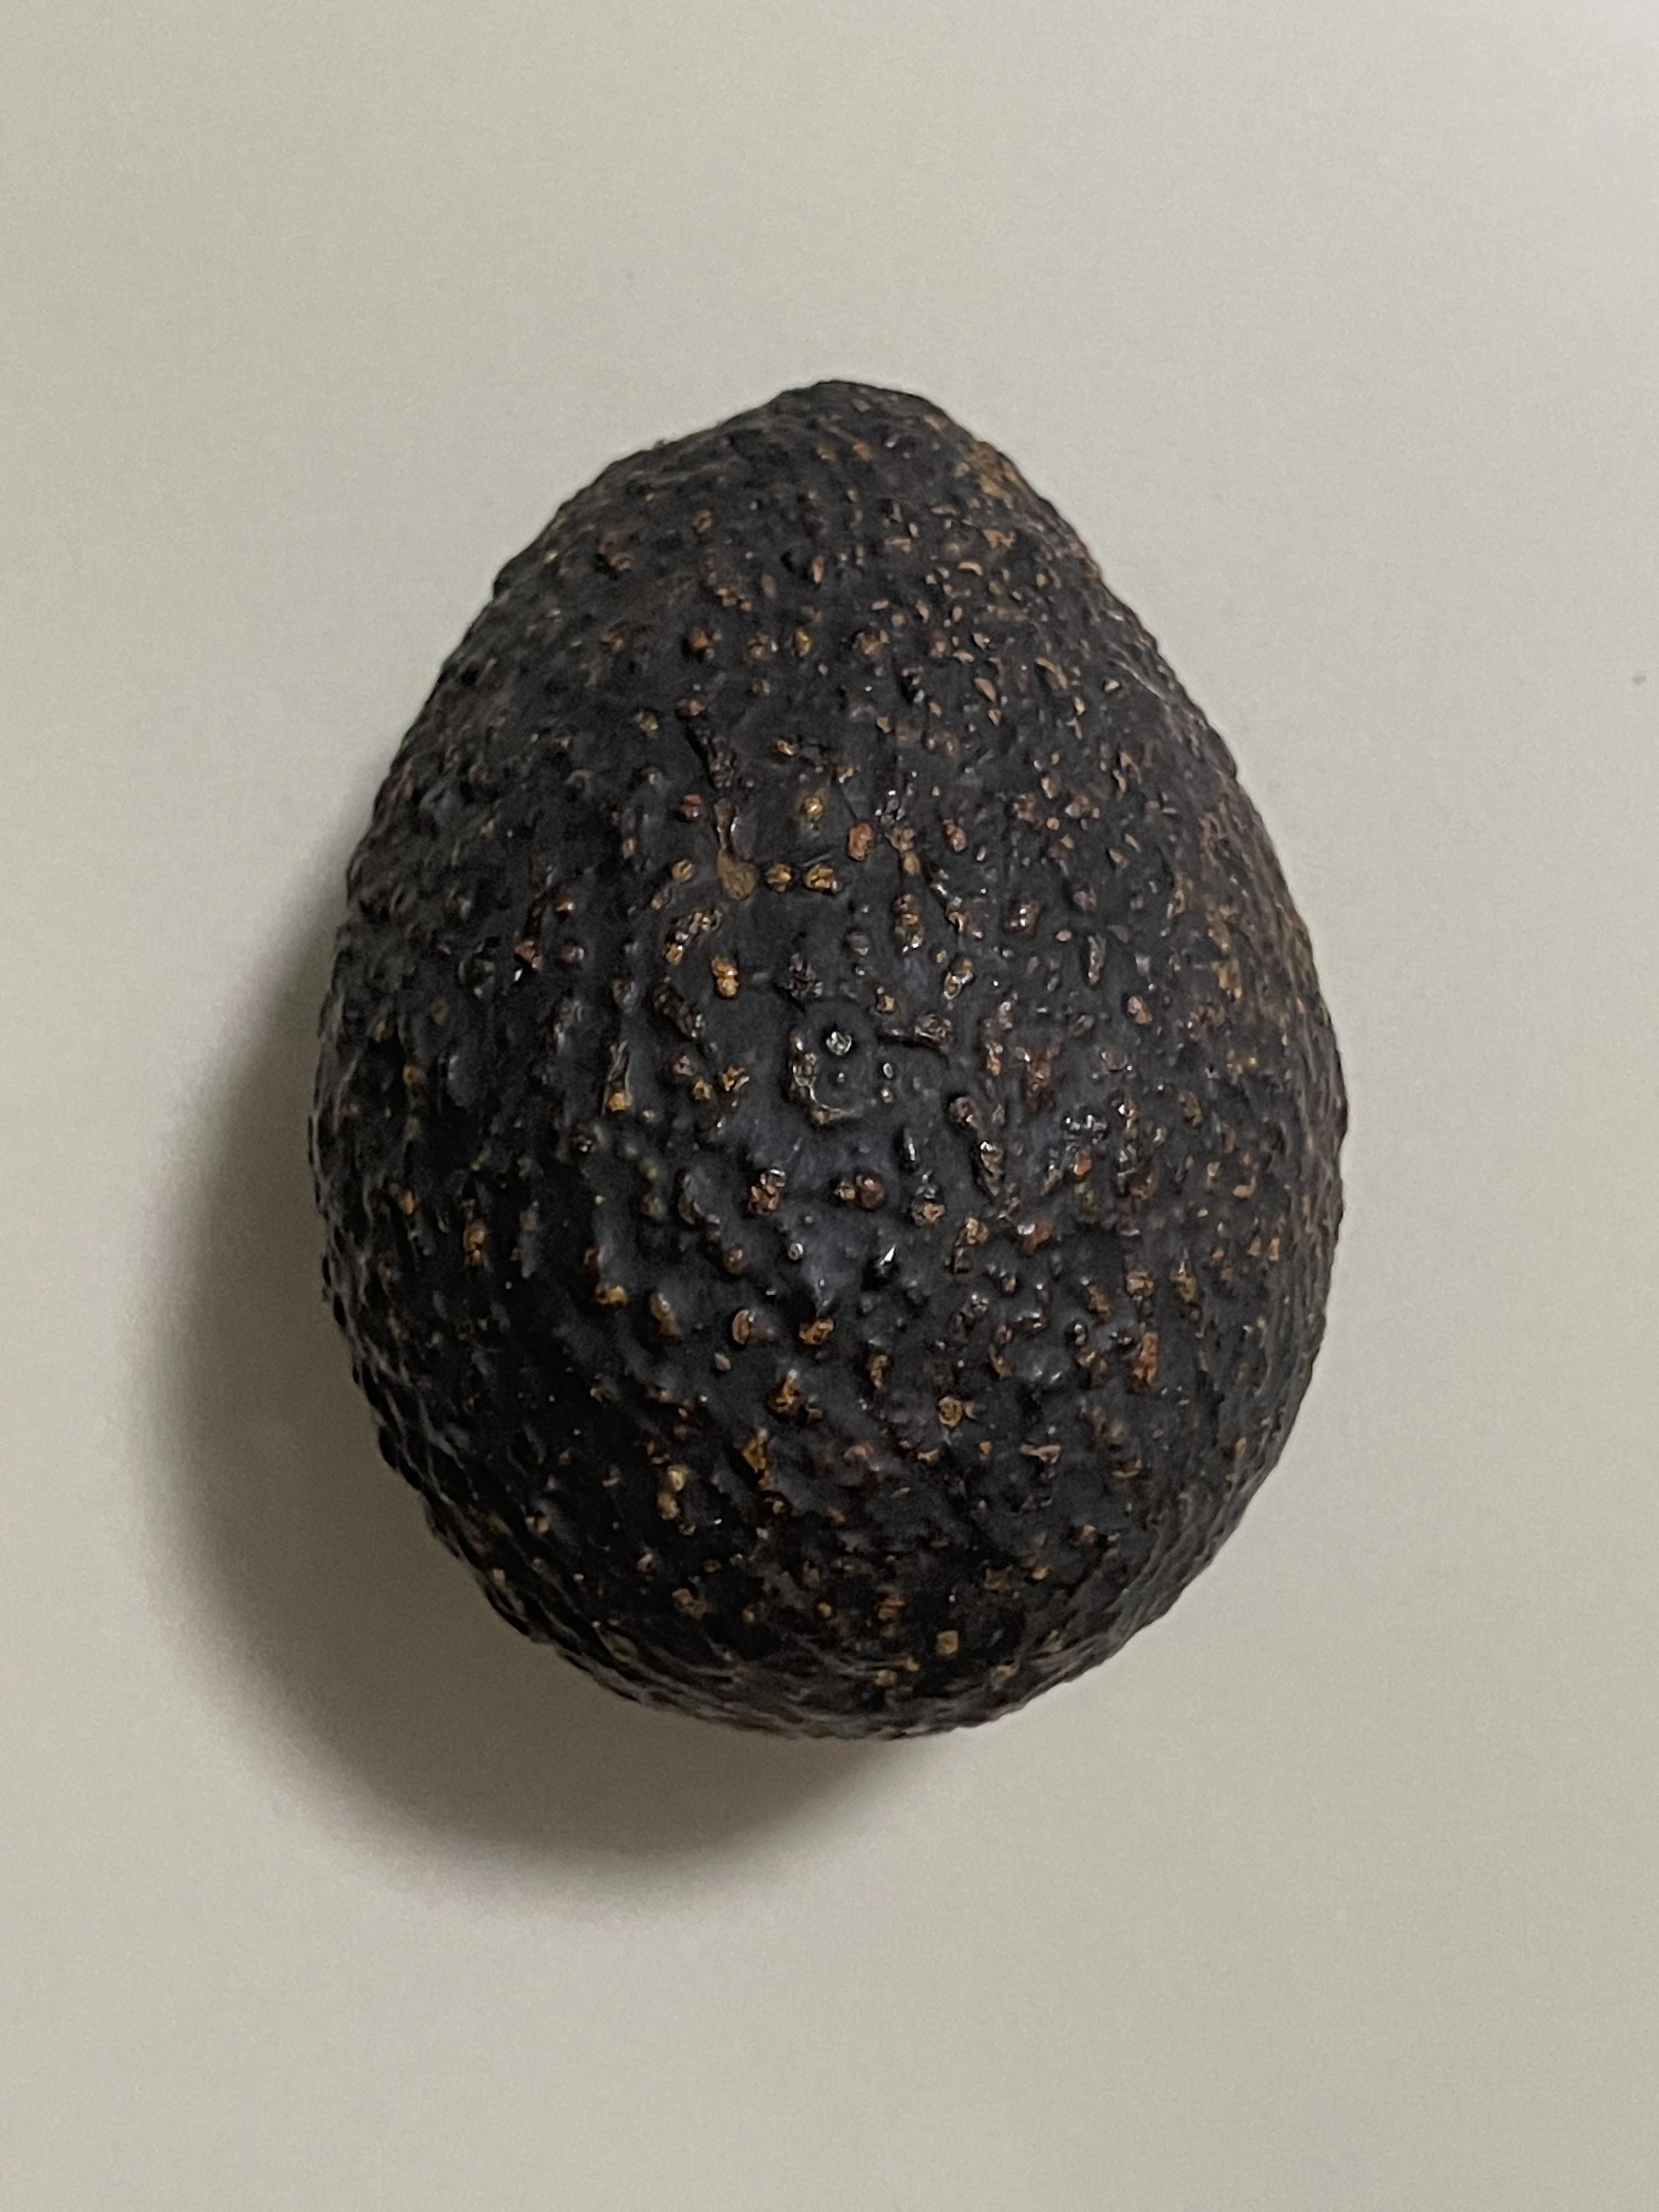Level2: (281, 340, 1364, 1761)
